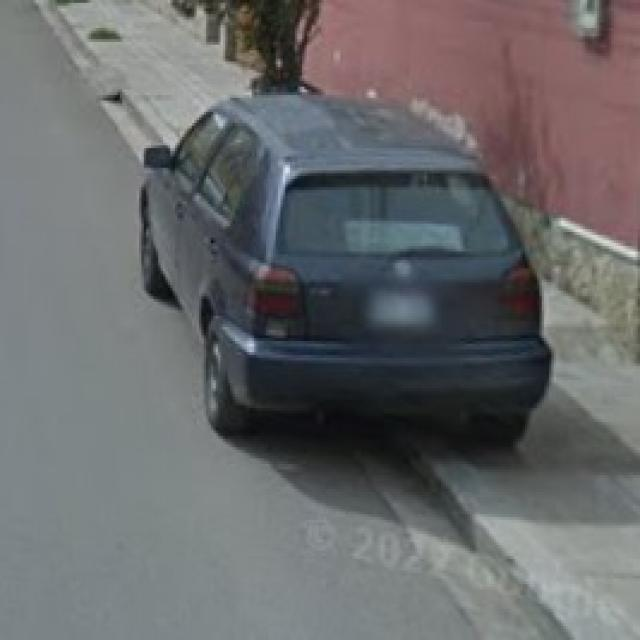cars: (138, 89, 554, 454)
